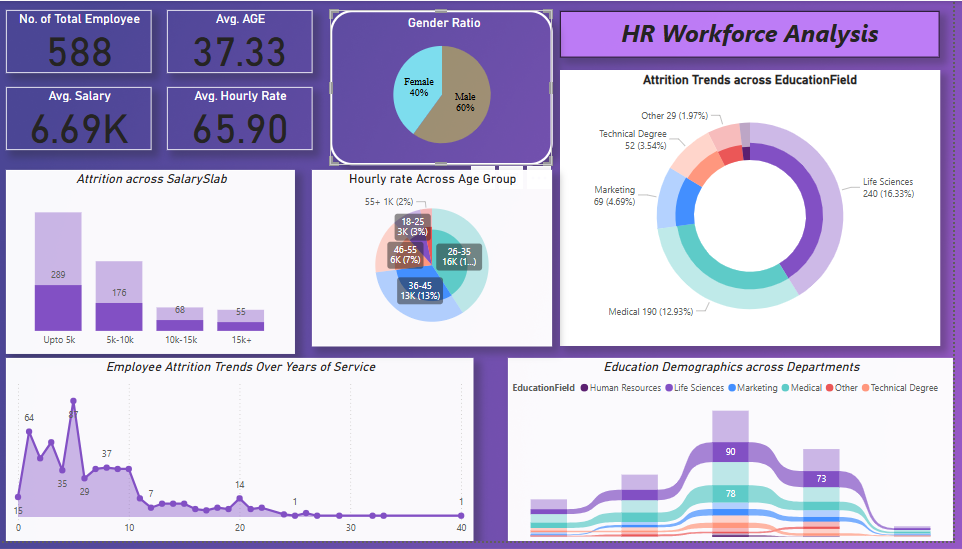

The dashboard page shown, as its layout file describes it:
{"tool":"powerbi","page":{"name":"Page 1","canvas":[1280,720],"ordinal":0},"visuals":[{"type":"textbox","box":[756.5,14,506.4,62.1],"z":0},{"type":"card","title":"No. of Total Employee","fields":{"Values":["Sum(HR_Analytics.EmployeeCount)"]},"box":[17.1,12.4,194.2,83.9],"z":1000},{"type":"card","title":"Avg. AGE","fields":{"Values":["Avg(HR_Analytics.Age)"]},"box":[231.5,12.4,194.2,83.9],"z":2000},{"type":"card","title":"Avg. Salary","fields":{"Values":["Avg(HR_Analytics.MonthlyIncome)"]},"box":[17.1,115,194.2,83.9],"z":3000},{"type":"card","title":"Avg. Hourly Rate","fields":{"Values":["Avg(HR_Analytics.HourlyRate)"]},"box":[231.5,115,194.2,83.9],"z":4000},{"type":"pieChart","title":"Gender Ratio","fields":{"Category":["HR_Analytics.Gender"],"Y":["CountNonNull(HR_Analytics.Gender)"]},"box":[448.9,12.4,296.7,206.6],"z":5000},{"type":"donutChart","title":"Attrition Trends across EducationField","fields":{"Y":["CountNonNull(HR_Analytics.Attrition)"],"Category":["HR_Analytics.EducationField"]},"box":[756,92,506.7,368],"z":6000},{"type":"columnChart","title":" Attrition across SalarySlab","fields":{"Category":["HR_Analytics.SalarySlab"],"Y":["CountNonNull(HR_Analytics.Attrition)"]},"box":[17.1,225.2,385.2,245.4],"z":7000},{"type":"ribbonChart","title":"Education Demographics across Departments","fields":{"Category":["HR_Analytics.Education"],"Y":["CountNonNull(HR_Analytics.Department)"],"Series":["HR_Analytics.EducationField"]},"box":[686.6,475.3,593.4,245.4],"z":8000},{"type":"areaChart","title":"Employee Attrition Trends Over Years of Service","fields":{"Y":["CountNonNull(HR_Analytics.Attrition)"],"Category":["HR_Analytics.YearsAtCompany"]},"box":[17.1,475.3,622.9,245.4],"z":9000},{"type":"pieChart","title":"Hourly rate Across Age Group ","fields":{"Category":["HR_Analytics.AgeGroup"],"Y":["Sum(HR_Analytics.HourlyRate)"]},"box":[425.6,225.2,320,234.6],"z":10000}]}

Visuals, with their boxes in screenshot pixels (x1, y1, x2, y2), scaled from the page's 1280x720 canvas onto the 962x549 screenshot:
textbox: {"left": 569, "top": 11, "right": 949, "bottom": 58}
"No. of Total Employee" card: {"left": 13, "top": 9, "right": 159, "bottom": 73}
"Avg. AGE" card: {"left": 174, "top": 9, "right": 320, "bottom": 73}
"Avg. Salary" card: {"left": 13, "top": 88, "right": 159, "bottom": 152}
"Avg. Hourly Rate" card: {"left": 174, "top": 88, "right": 320, "bottom": 152}
"Gender Ratio" pieChart: {"left": 337, "top": 9, "right": 560, "bottom": 167}
"Attrition Trends across EducationField" donutChart: {"left": 568, "top": 70, "right": 949, "bottom": 351}
" Attrition across SalarySlab" columnChart: {"left": 13, "top": 172, "right": 302, "bottom": 359}
"Education Demographics across Departments" ribbonChart: {"left": 516, "top": 362, "right": 961, "bottom": 548}
"Employee Attrition Trends Over Years of Service" areaChart: {"left": 13, "top": 362, "right": 481, "bottom": 548}
"Hourly rate Across Age Group " pieChart: {"left": 320, "top": 172, "right": 560, "bottom": 351}
